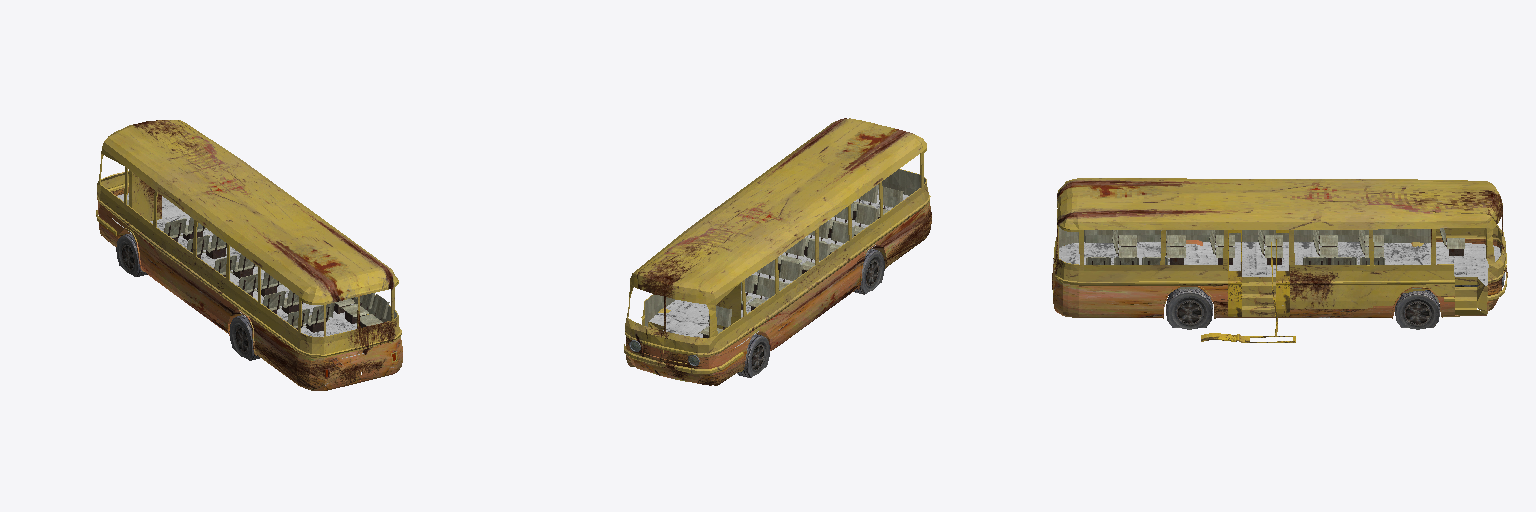
3 views of the same model, side by side, from view 1: azimuth 30°, elevation 25°; view 2: azimuth 150°, elevation 25°; view 3: azimuth 270°, elevation 25° (orthographic).
Parts seen in each view (by area): view 1: Buss; view 2: Buss; view 3: Buss.
Part boxes in pixels (left/top/right/bottom): Buss: left=96, top=120, right=402, bottom=390; Buss: left=624, top=118, right=931, bottom=385; Buss: left=1052, top=178, right=1507, bottom=342.
Bounding box in the file's own units: 3.84 × 3.46 × 12.41.
Materials: 1 (1 with a texture image).